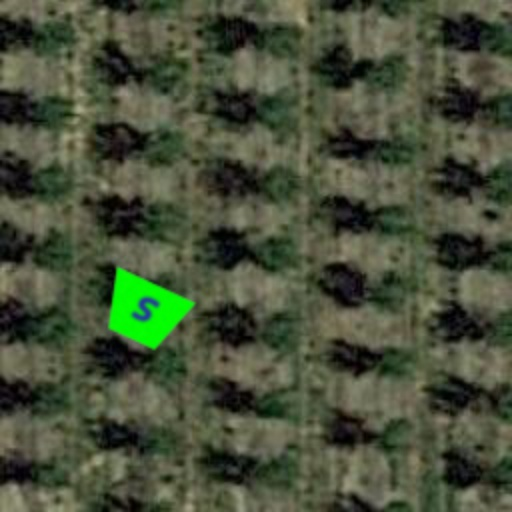trapezoid: (86, 254, 202, 370)
